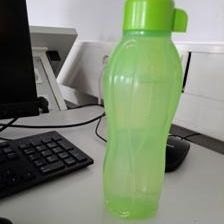bottle: (94, 0, 190, 221)
